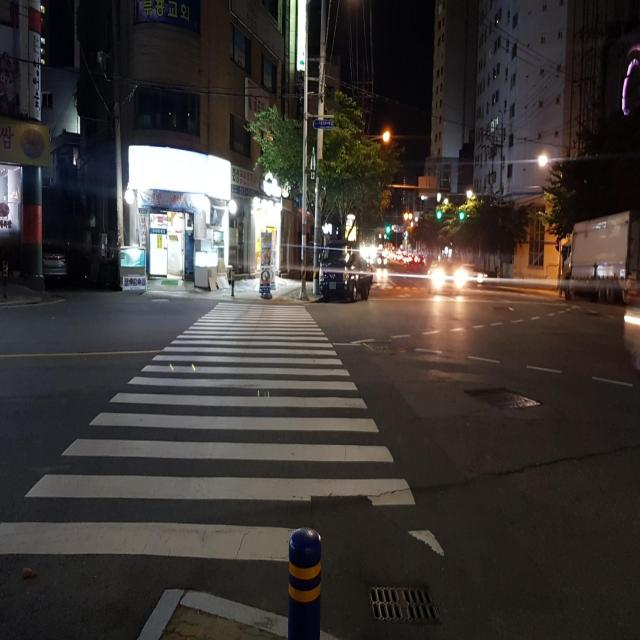횡단보도: (0, 299, 446, 566)
